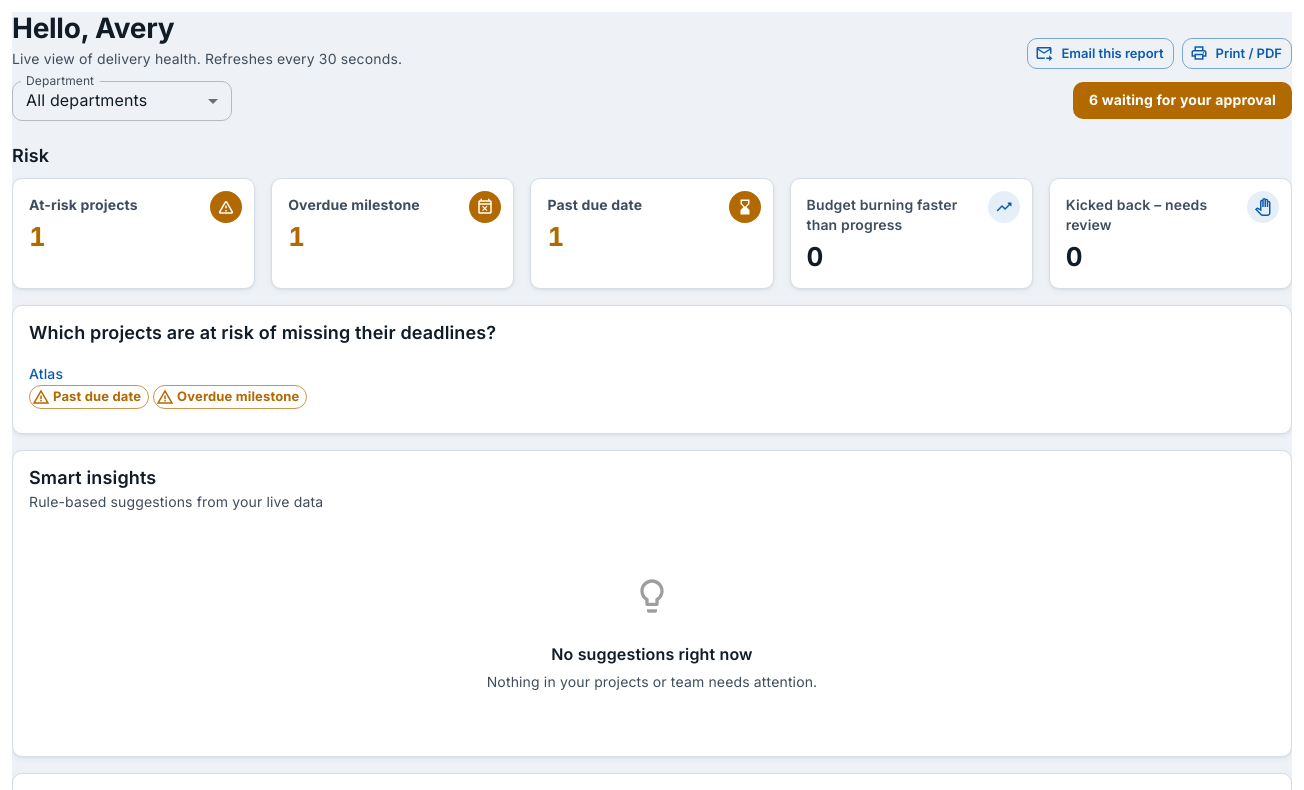
Test: DashboardPage › the department filter asks the server for that department and keeps it in the URL
Click the dropdown labelled "All departments" at x=87, y=100, box [26,90,147,110]
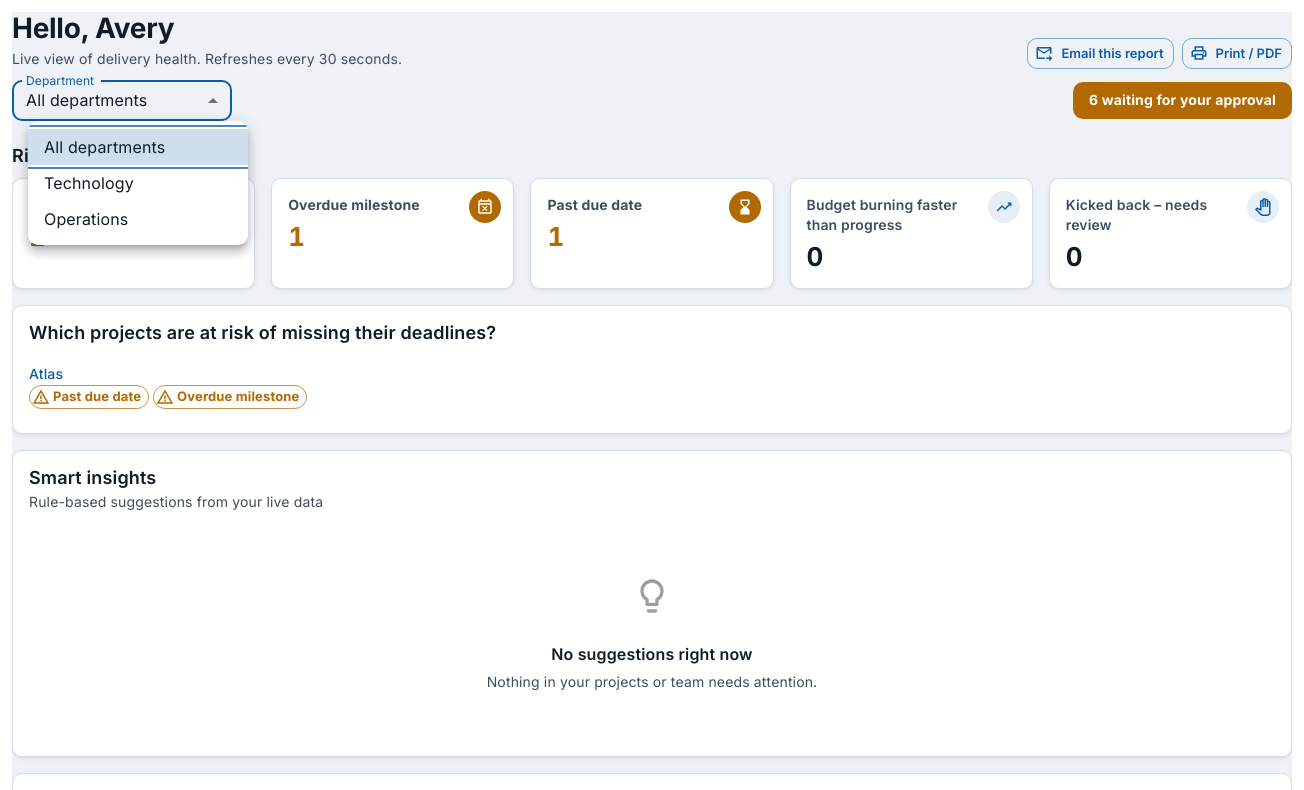
Now the option "All departments" is shown, box [28,129,248,165]
Click the option "Technology" at x=89, y=183, box [44,173,134,193]
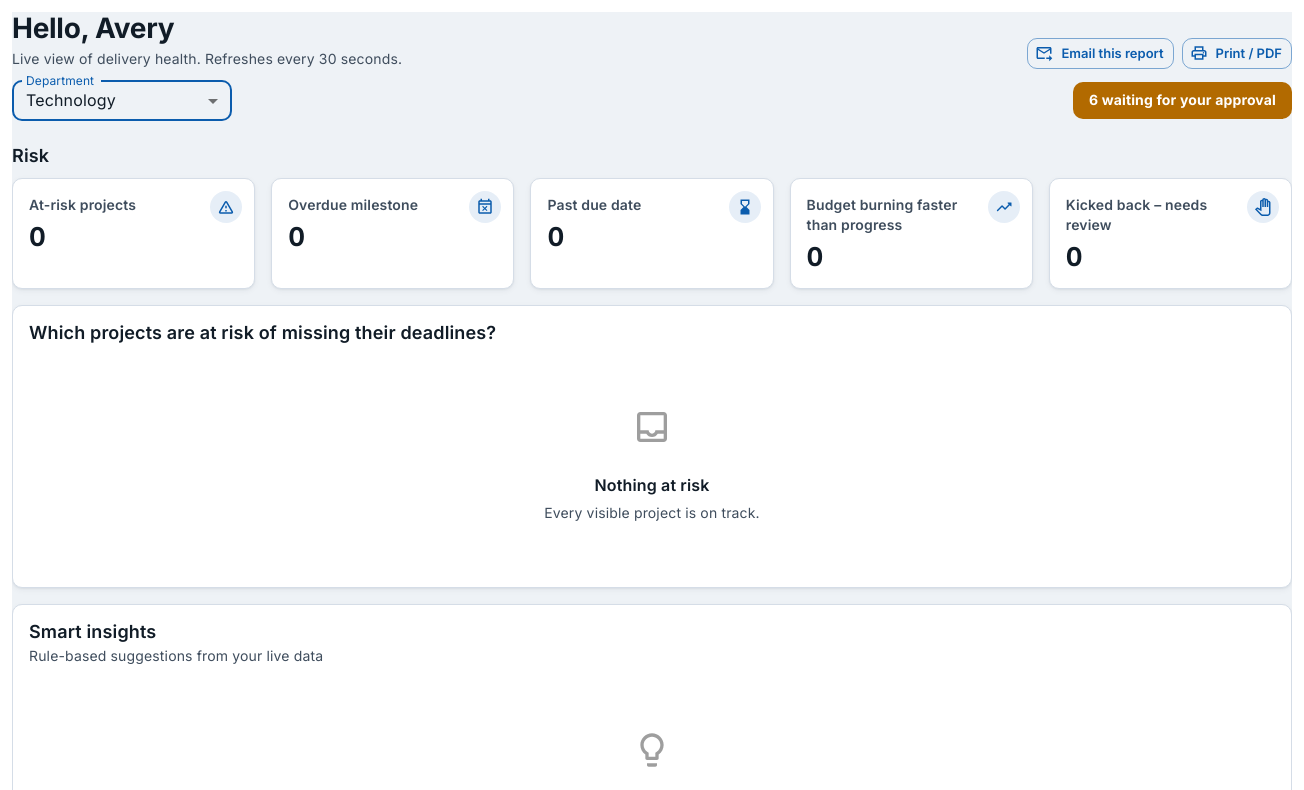
Now the text "Nothing at risk" is shown, box [594,475,710,495]
